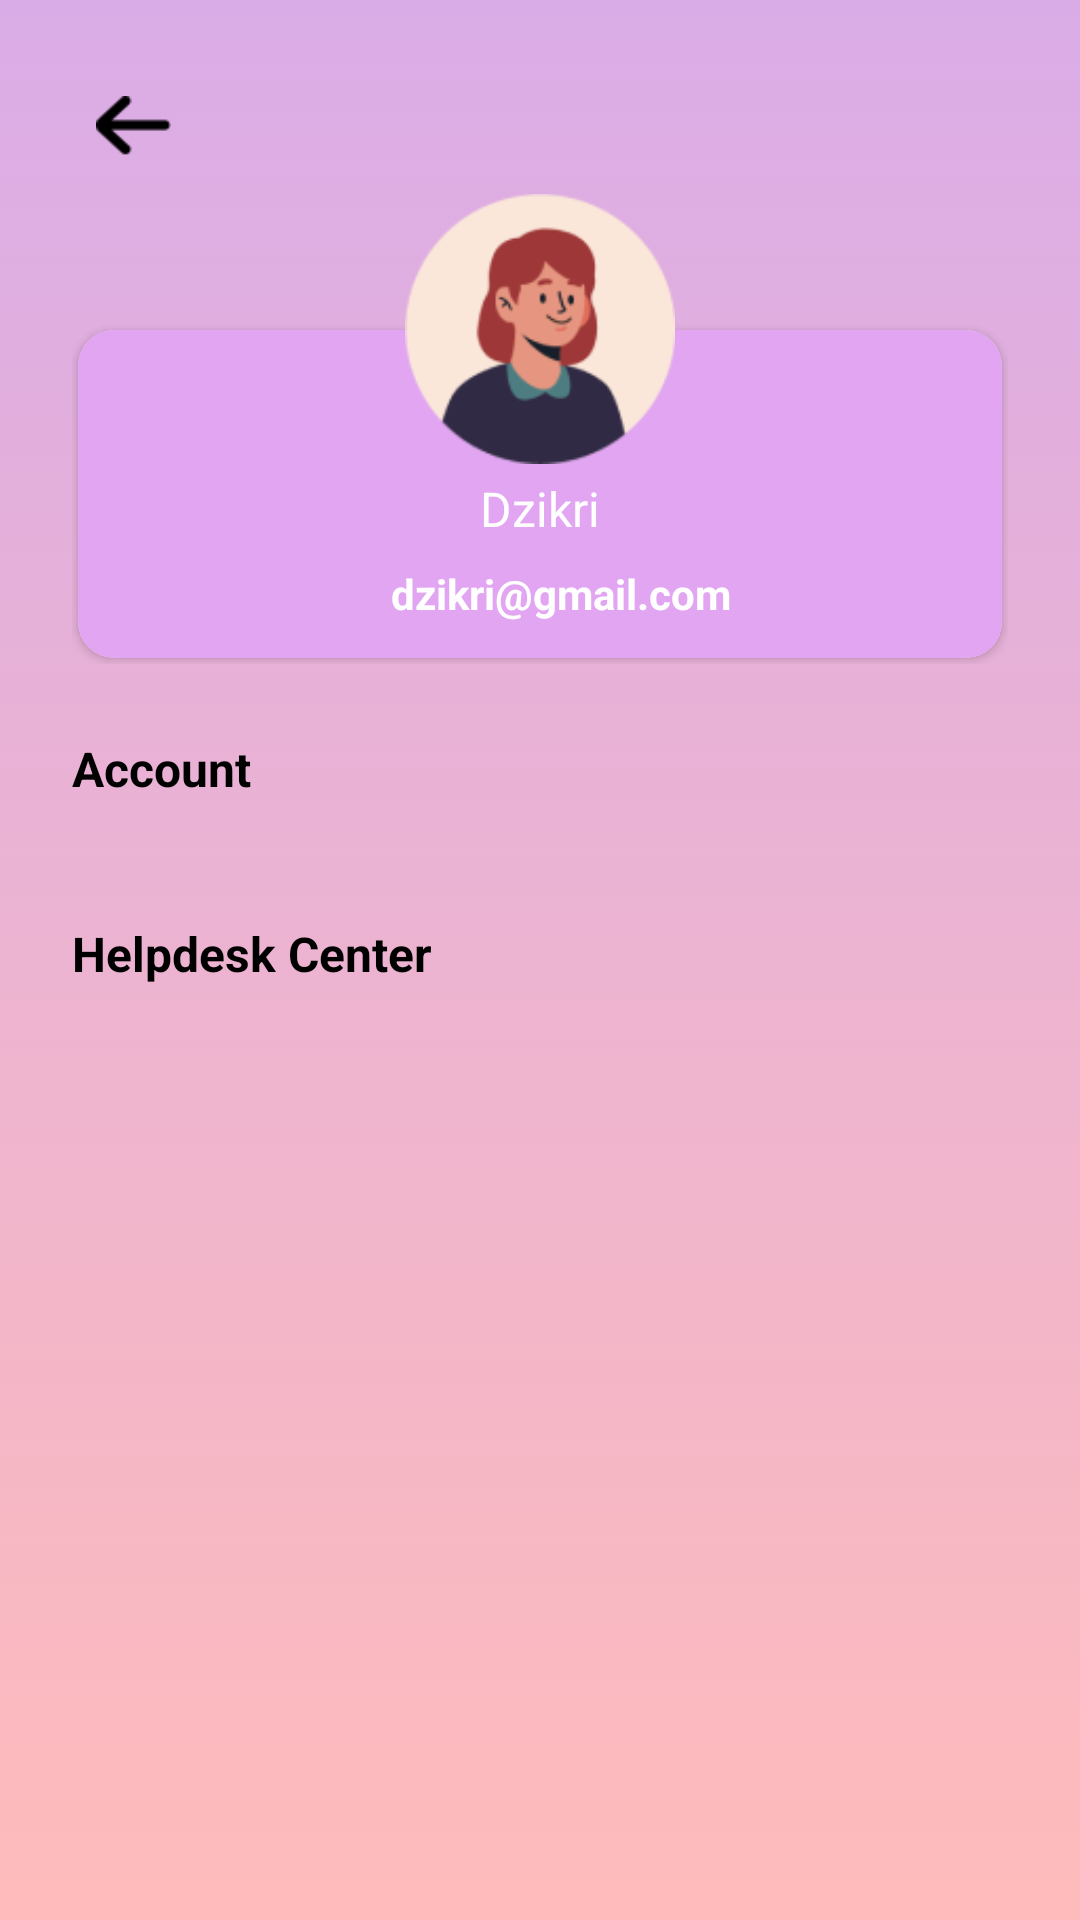

Icon click points for this 1080x1920 phone screenshot, format (x=x, y=y):
back: (x=133, y=125)
profile: (x=540, y=329)
